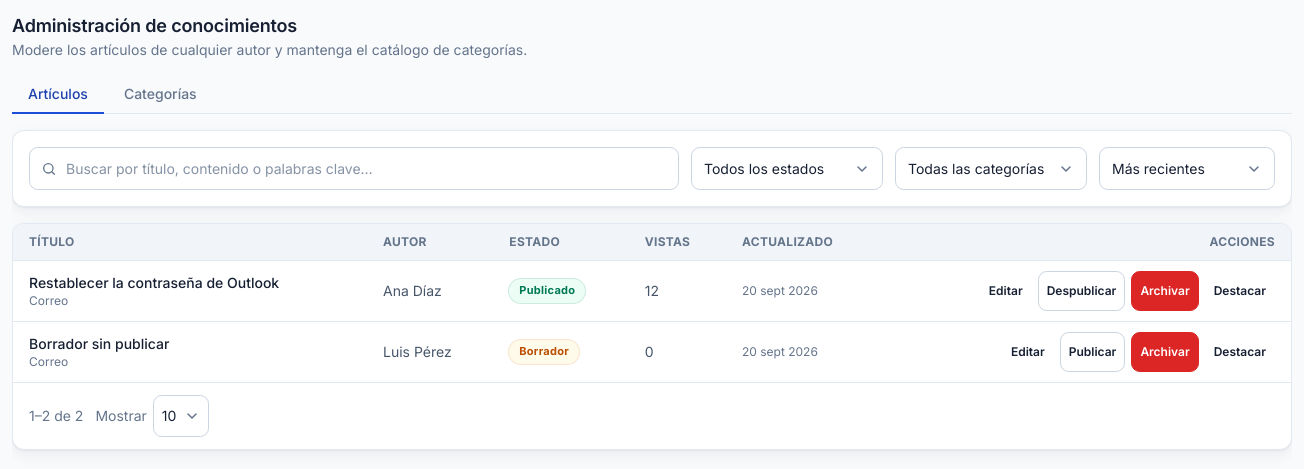
Test: KnowledgeAdmin · categorías › lista las categorías activas e inactivas con su conteo de artículos
Expected: the row "Restablecer la contraseña" is shown, [13,260,1291,322]
Click the tab "Categorías".
click(160, 95)  # box [108,76,213,114]
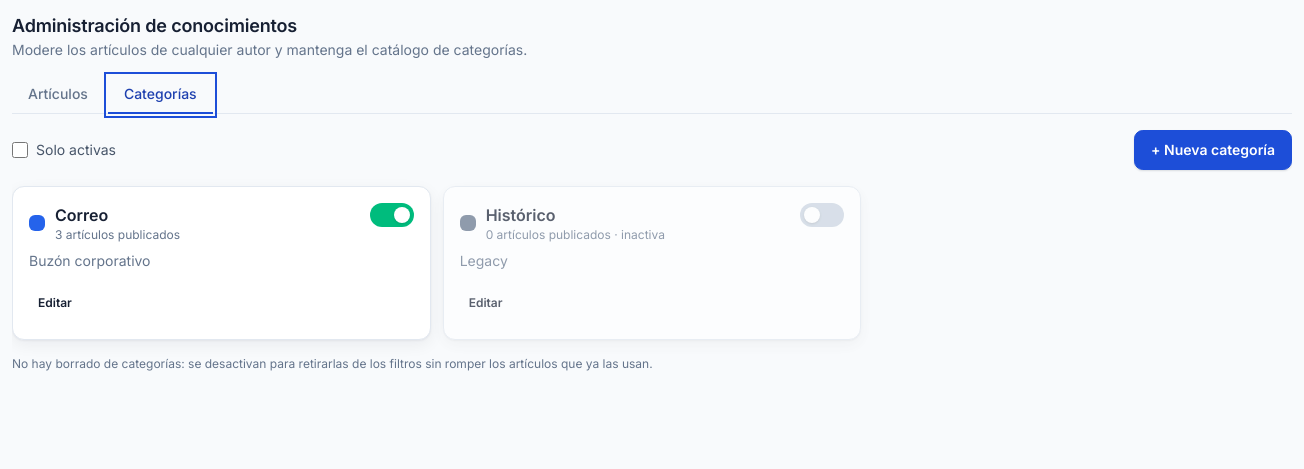
Expected: the text "3 artículos publicados" is shown, [55,227,180,243]
Expected: the text "0 artículos publicados · inactiva" is shown, [486,227,665,243]
Expected: the text "Legacy" is shown, [460,252,508,269]
